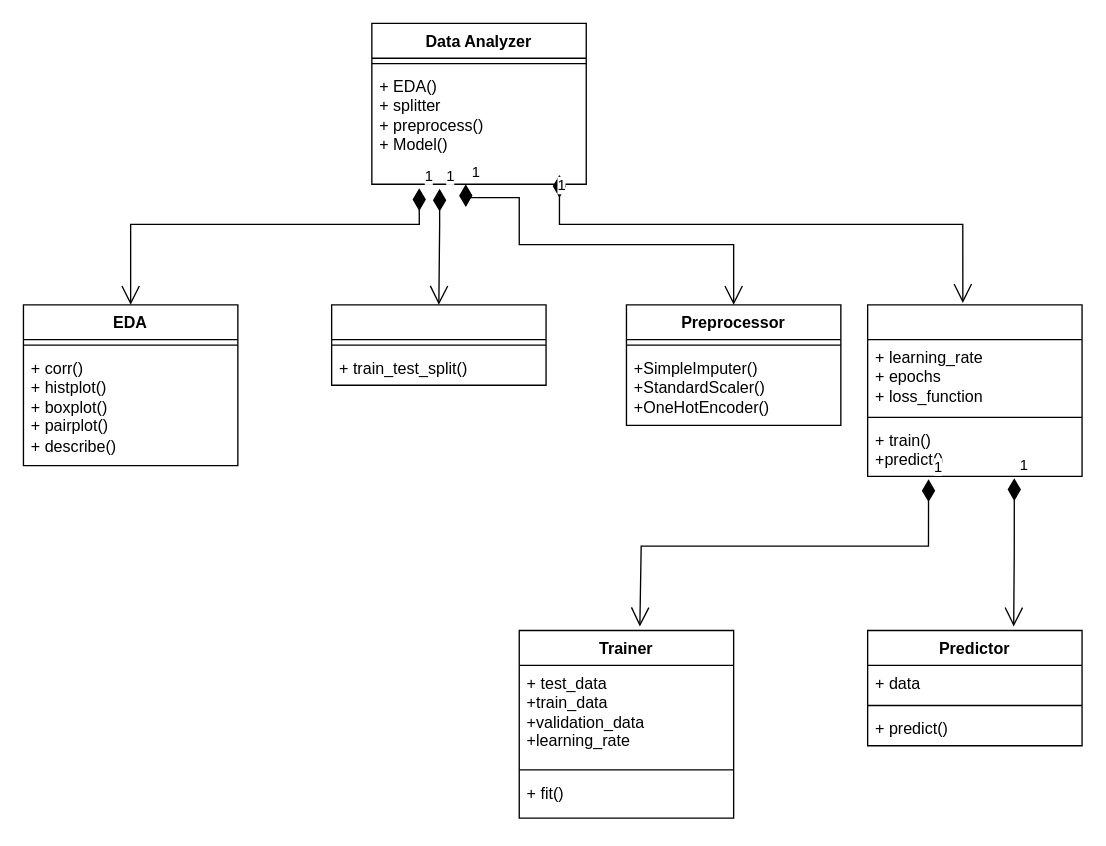
This 1106x846 diagram has some shape labels left out. Each missing label, with the box of its shape:
Model: (866, 304, 1082, 476)
Splitter: (330, 304, 546, 385)
